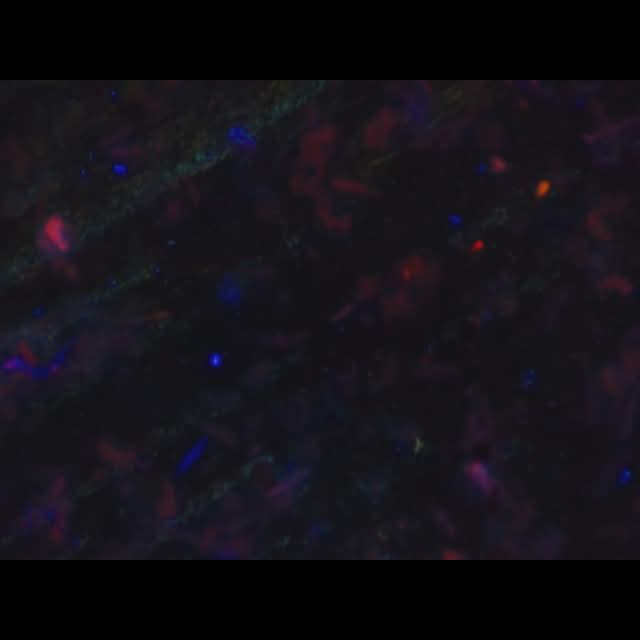Fragment: (45, 214, 69, 253)
